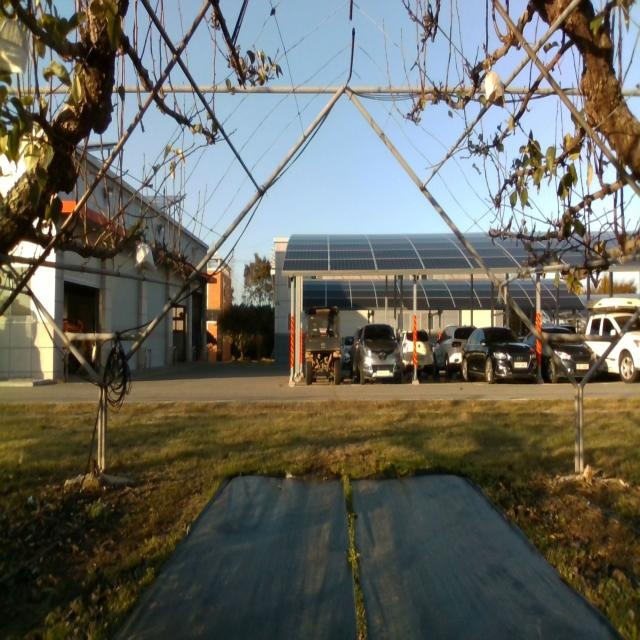pearbags: (0, 17, 27, 73), (484, 61, 506, 108), (135, 236, 157, 273)
